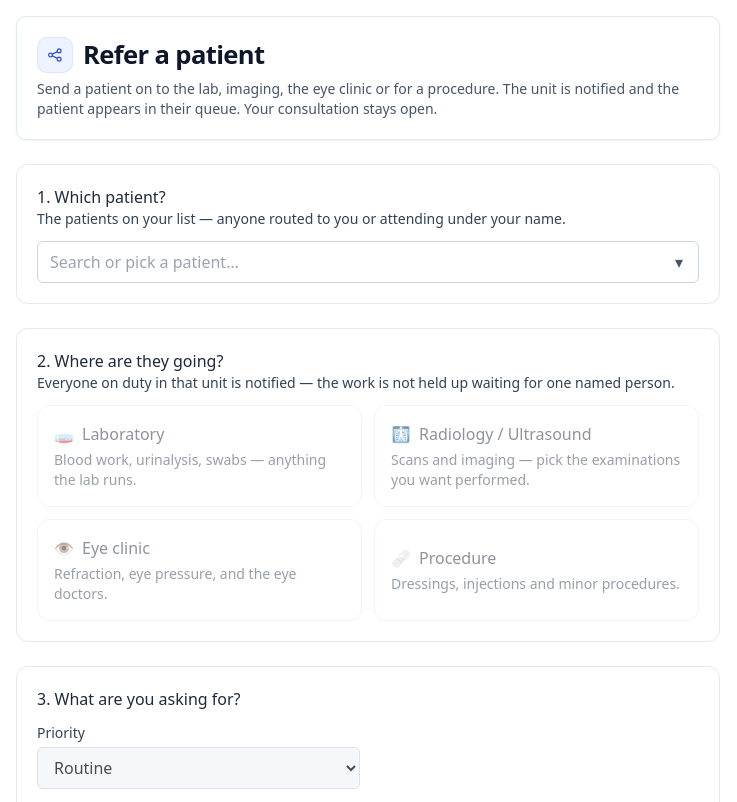
Test: referring a patient for a scan › says the charge is raised with the order once an examination is chosen
The width and height of the screenshot is (737, 802).
Click the dropdown with placeholder "Search or pick a patient…".
click(368, 262)  # box 37,241 -> 699,283
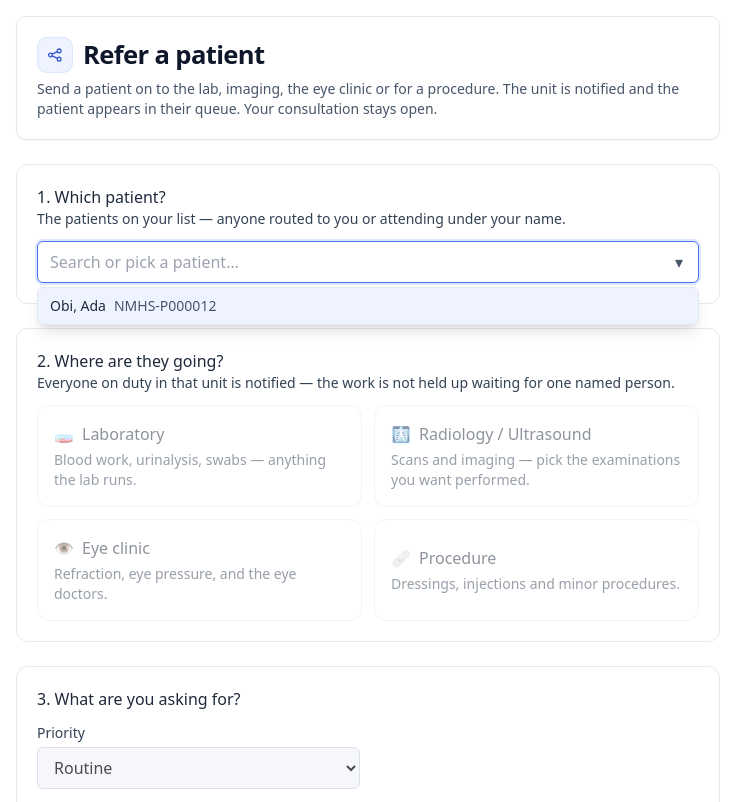
Click the text "Obi, Ada".
click(78, 306)  # box 50,296 -> 106,315
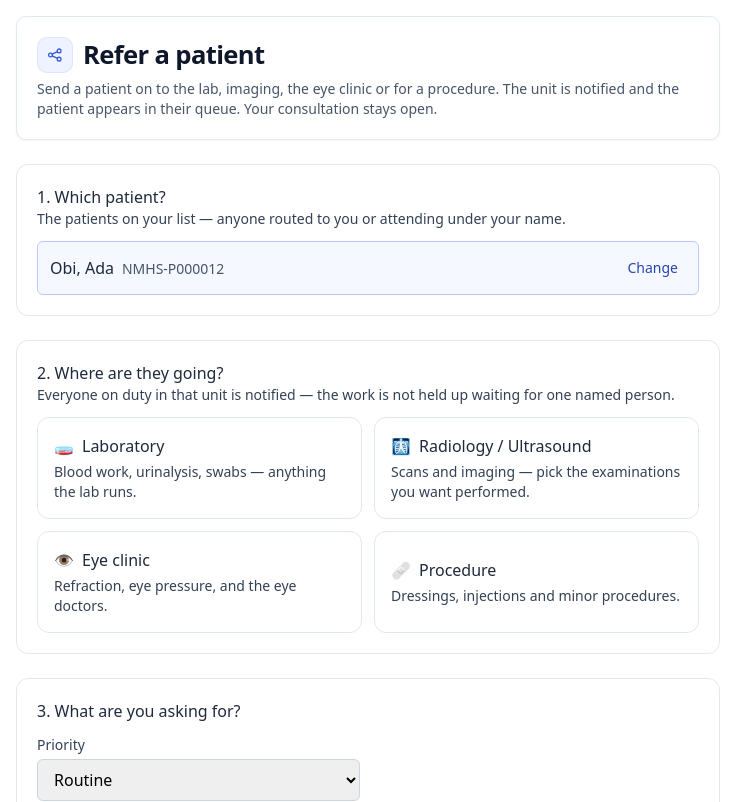
Click the text "Radiology / Ultrasound".
click(491, 446)  # box 391,435 -> 592,457
(page scrolled)
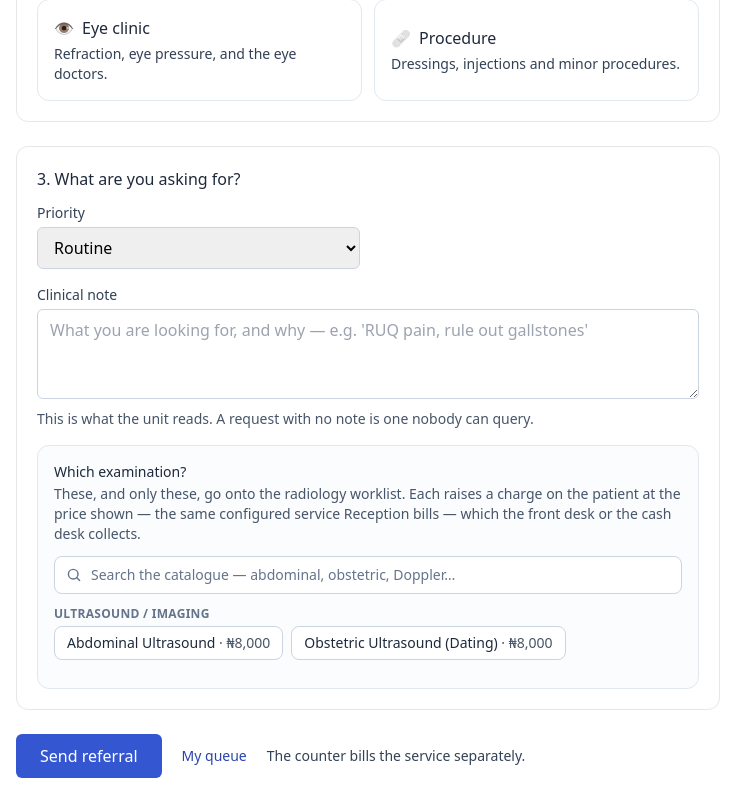
Expected: the text "The counter bills the service separately." is shown, 267,746 -> 525,766
Click the button "Obstetric Ultrasound (Dating) · ₦8,000".
click(428, 643)  # box 291,626 -> 566,660
(page scrolled)
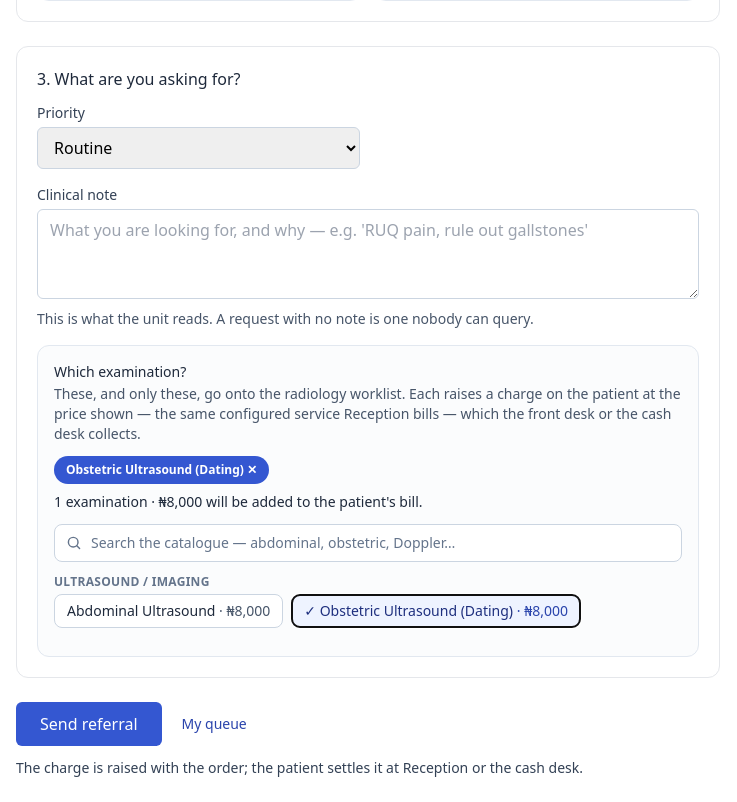
Now the text "The charge is raised with the order" is shown, box 16,758 -> 583,777
